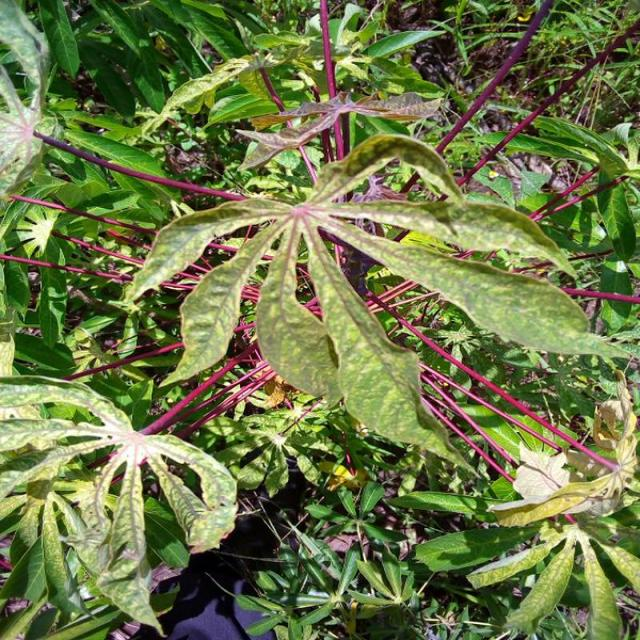cassava leaf: (126, 129, 620, 474)
